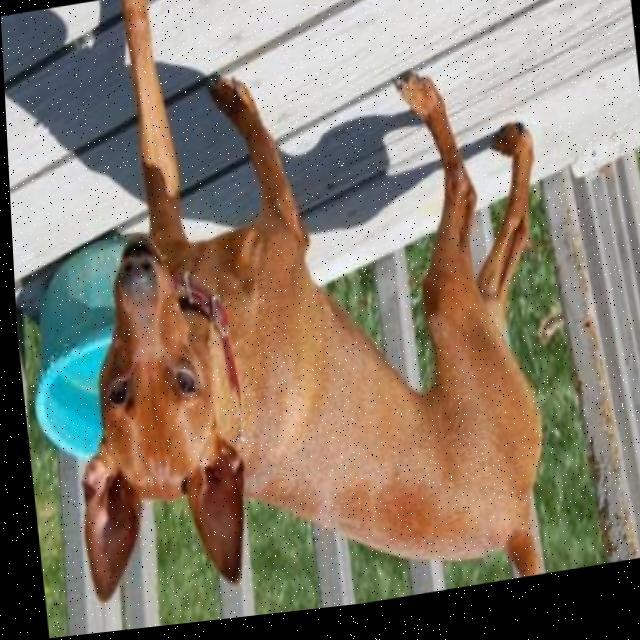dogs: (12, 0, 571, 639)
